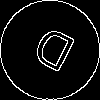D: (25, 25, 78, 82)
